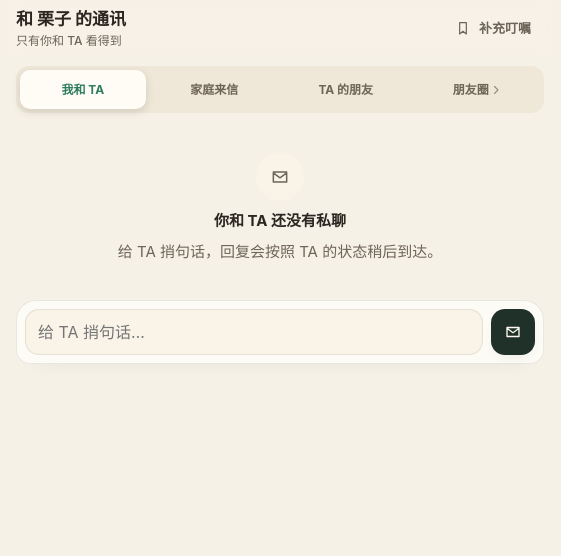
Test: 通讯器顶上的一排：三个分区 + 朋友圈入口 › 切到“TA 的朋友”只改 ?channel=friends，不再请求消息、输入框收起；切回“我和 TA”去掉参数、恢复消息与输入框
Check: the field named "消息内容" is shown, box top-left (25, 308), bottom-right (483, 355)
Click the button "TA 的朋友".
click(346, 90)  # box top-left (283, 70), bottom-right (408, 109)
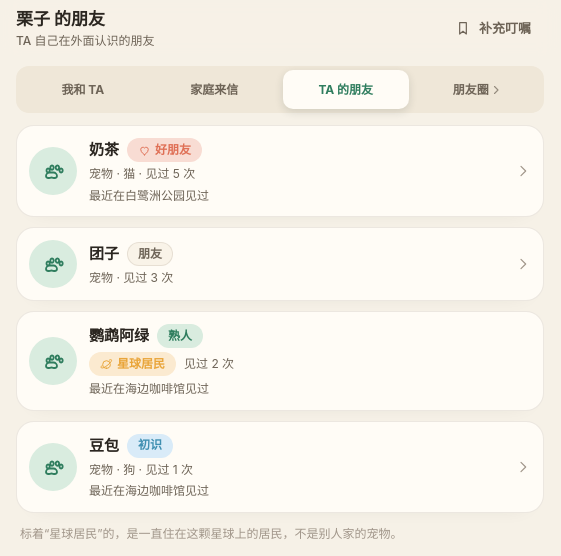
Check: the field labelled "消息内容" is gone
Click the button "我和 TA".
click(83, 90)  # box top-left (20, 70), bottom-right (146, 109)
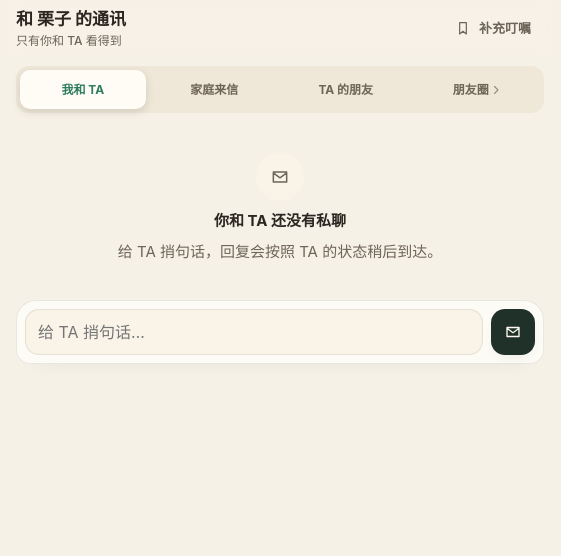
Check: the field named "消息内容" is shown, box top-left (25, 308), bottom-right (483, 355)
